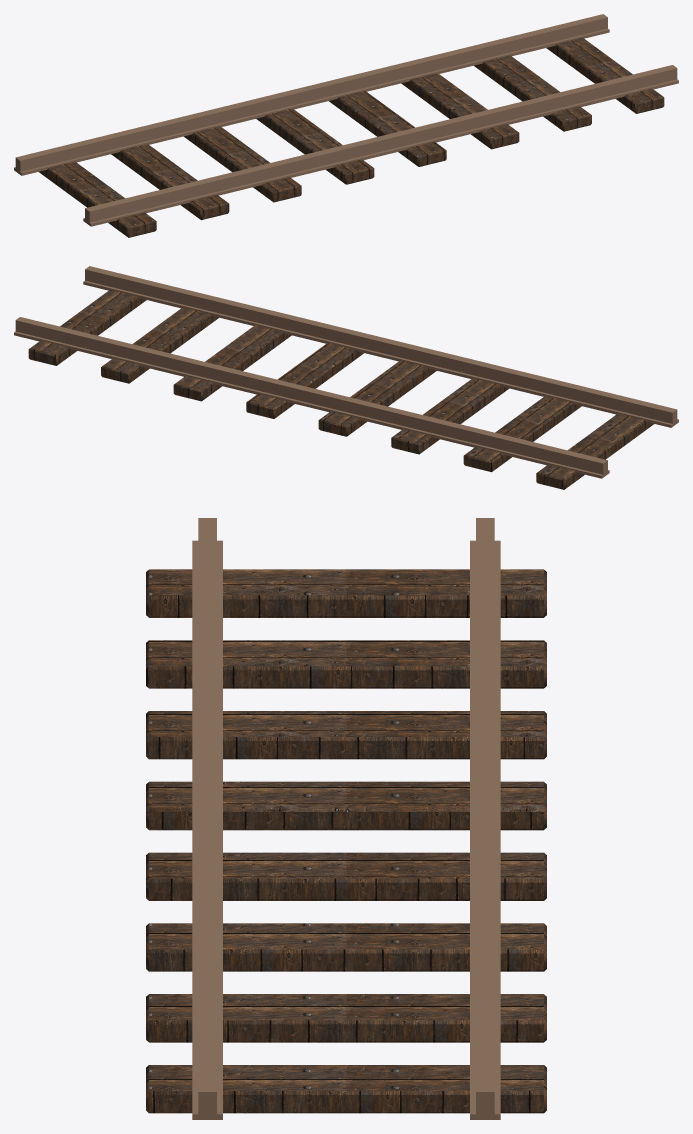
The model's file is mine-rails-v01.glb.
3 views of the same model, one above another, from view 1: azimuth 30°, elevation 25°; view 2: azimuth 150°, elevation 25°; view 3: azimuth 270°, elevation 25° (orthographic). The views are drawn at different scales.
Parts seen in each view (by area): view 1: mine-rails; view 2: mine-rails; view 3: mine-rails.
Part boxes in pixels (x1,y1,x2,y2): mine-rails: (14,14,678,237); mine-rails: (14,266,678,489); mine-rails: (146,518,546,1119).
Size of the model in its own units: 4.4 by 0.17 by 1.3.
2 materials, 1 textured.
